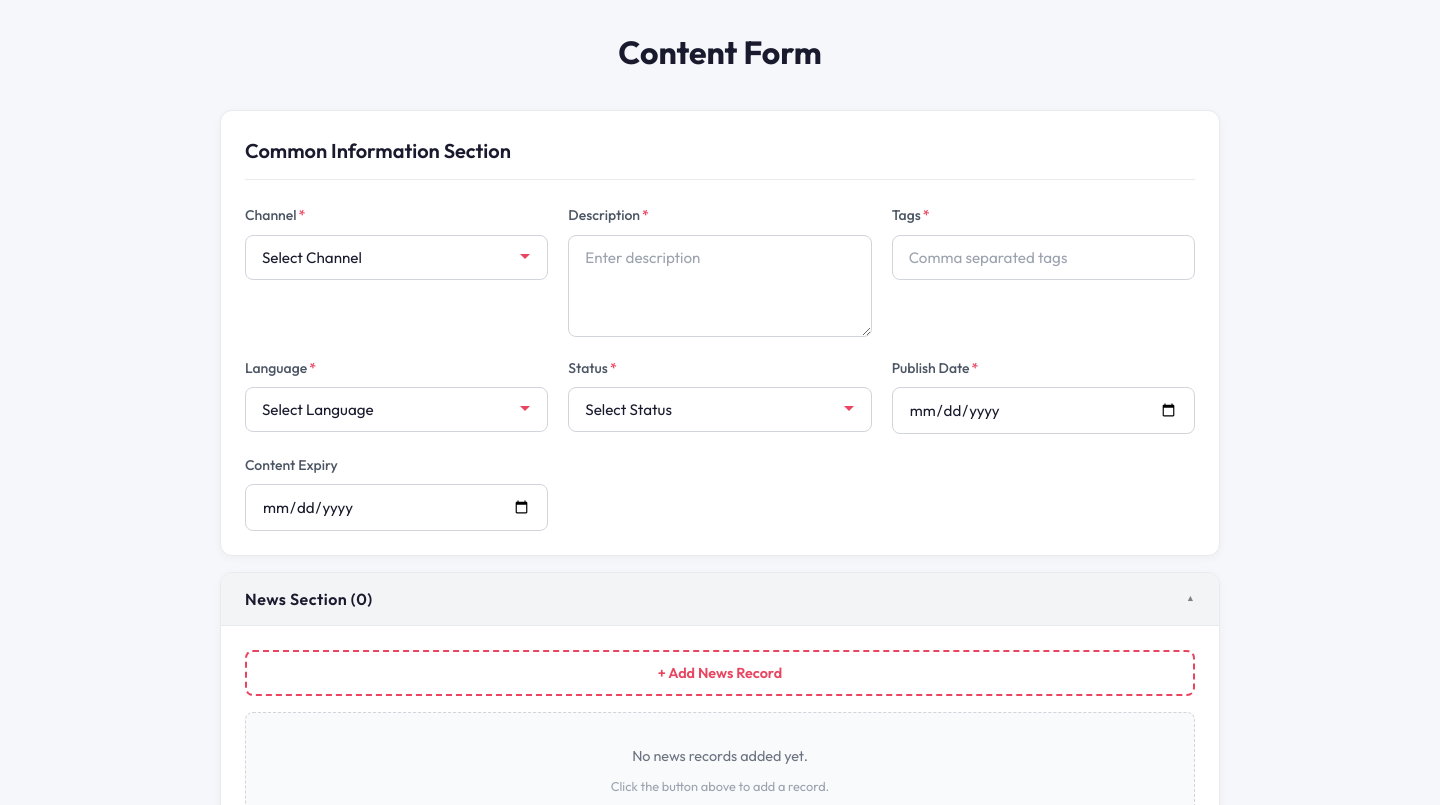
Scenario: FormPage › shows error message when API returns 400
This screenshot has width=1440, height=805.
Select "Janam Global" in the dropdown labelled "Channel*" at x=397, y=257, box [245,235,548,280]
Type "Test description" into the text box labelled "Description*" at x=720, y=286, box [568,235,872,337]
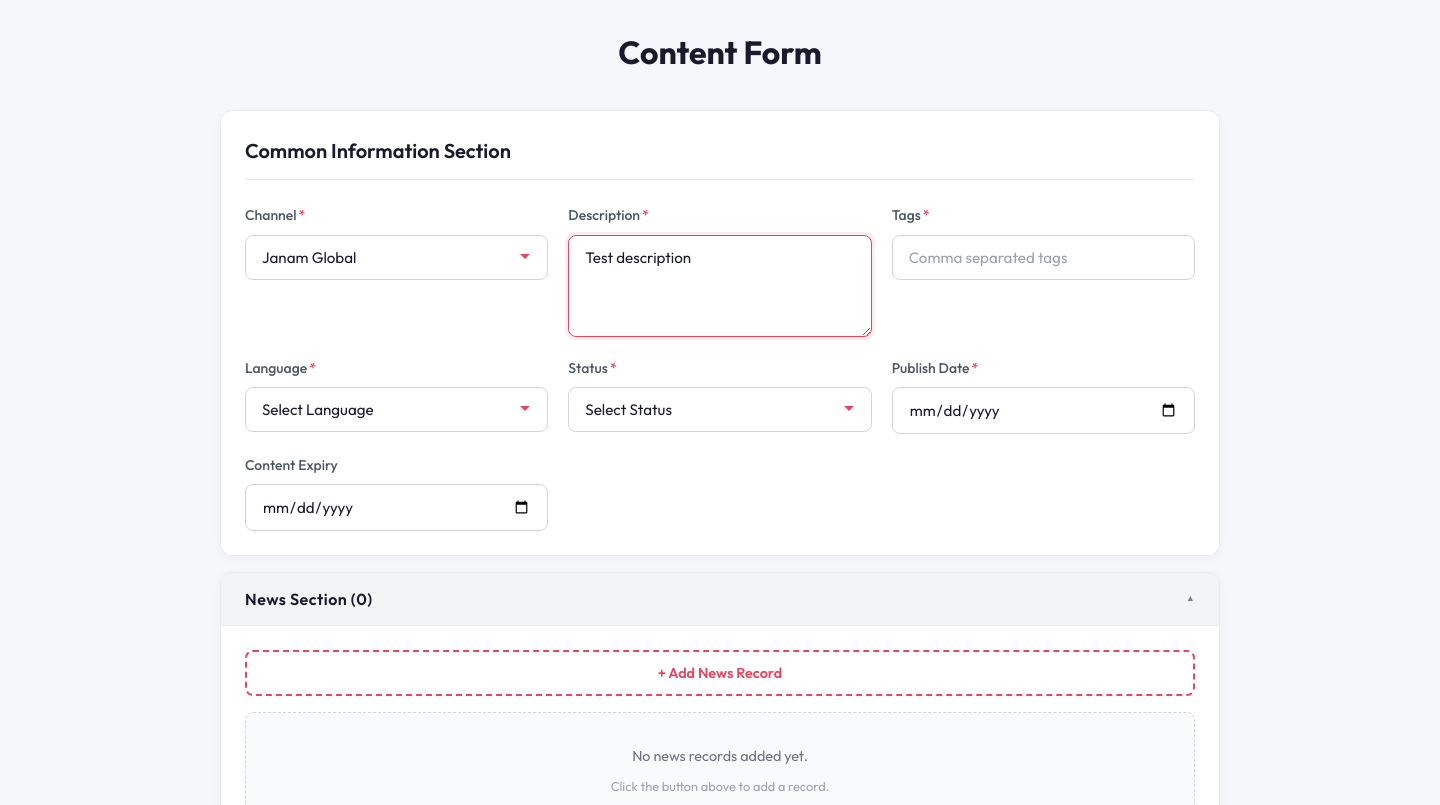
Type "tag1, tag2" into the field labelled "Tags*" at x=1043, y=257, box [892,235,1195,280]
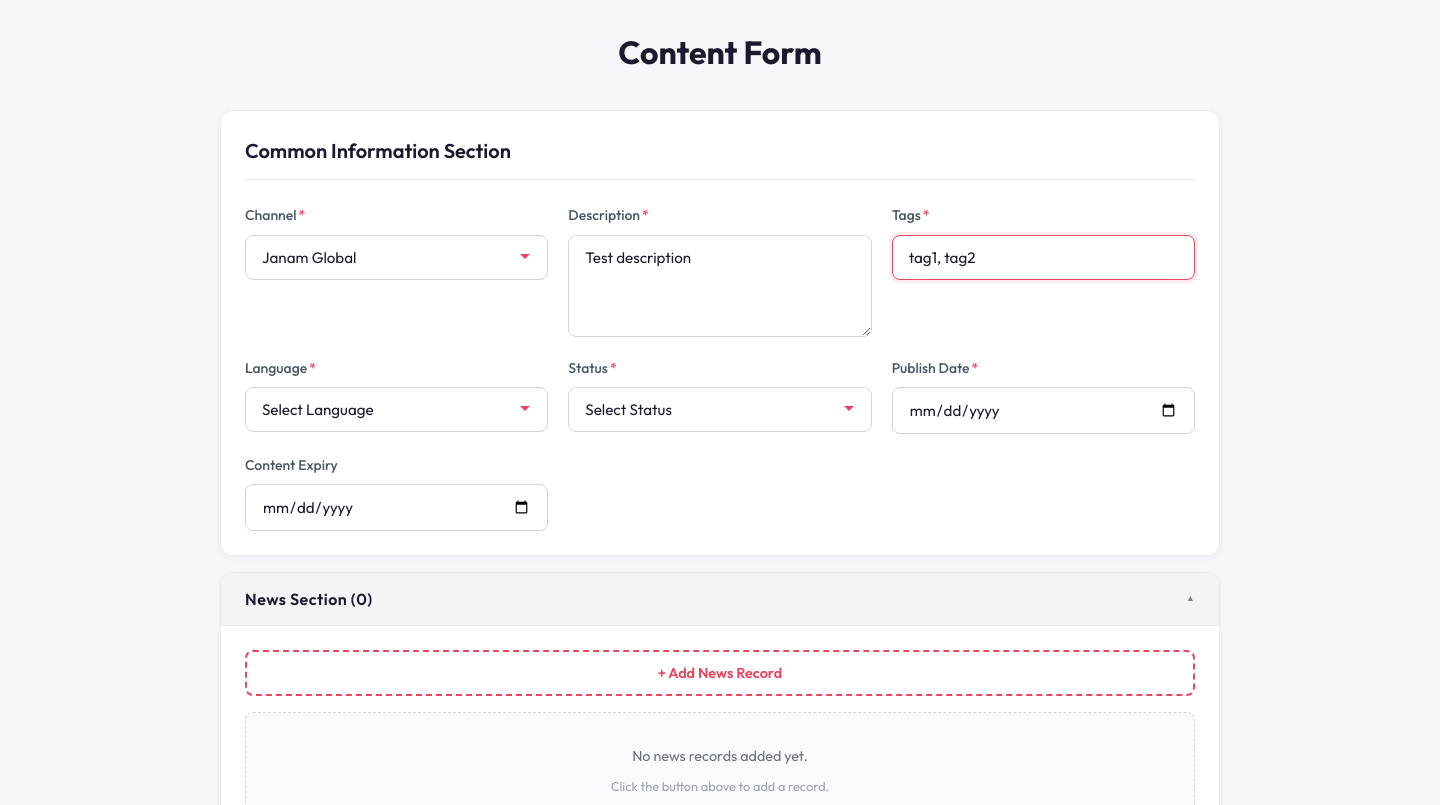
Select "Tamil" in the dropdown labelled "Language*" at x=397, y=410, box [245,387,548,432]
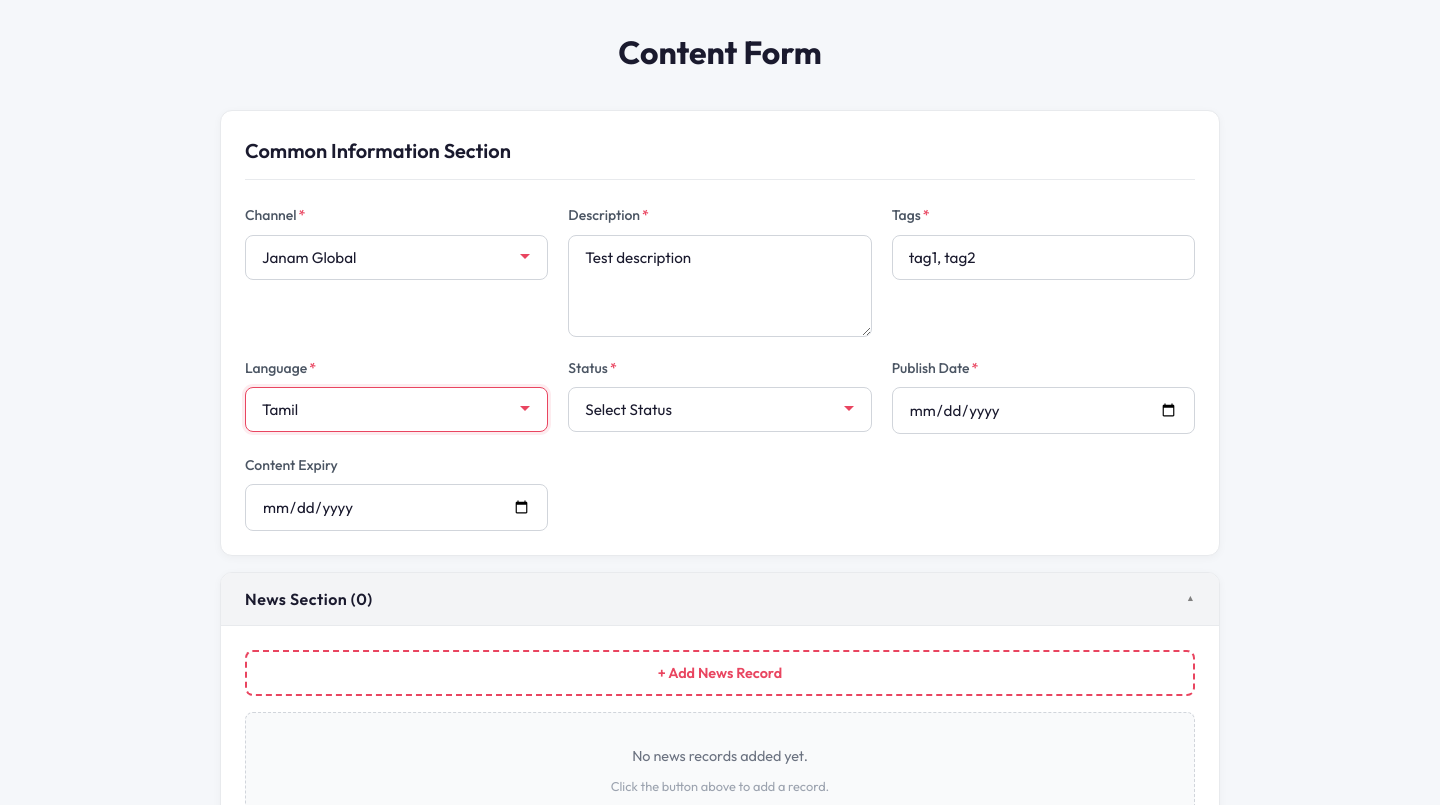
Select "Draft" in the dropdown labelled "Status*" at x=720, y=410, box [568,387,872,432]
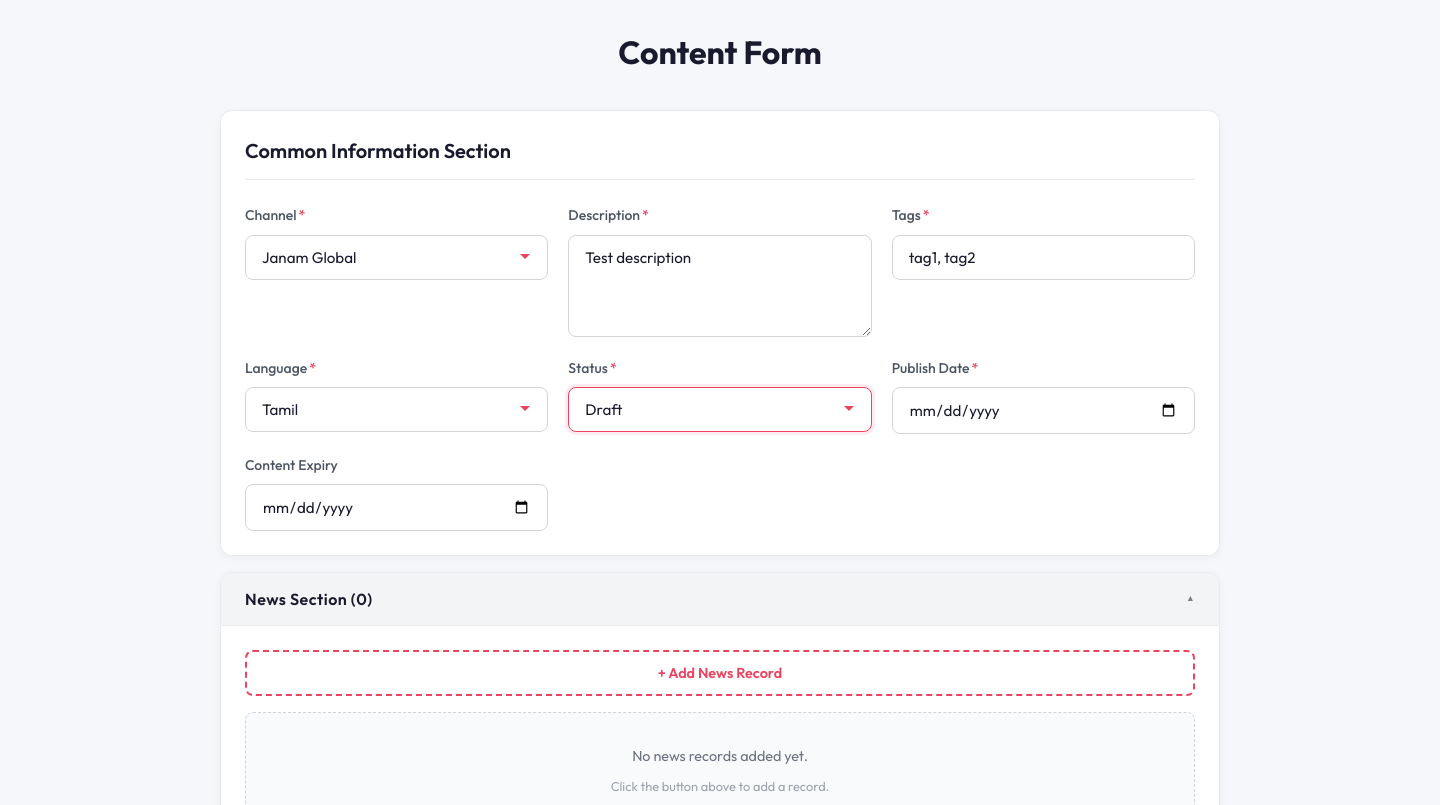
Type "2024-01-15" into the date field labelled "Publish Date*" at x=1043, y=410, box [892,387,1195,434]
(page scrolled)
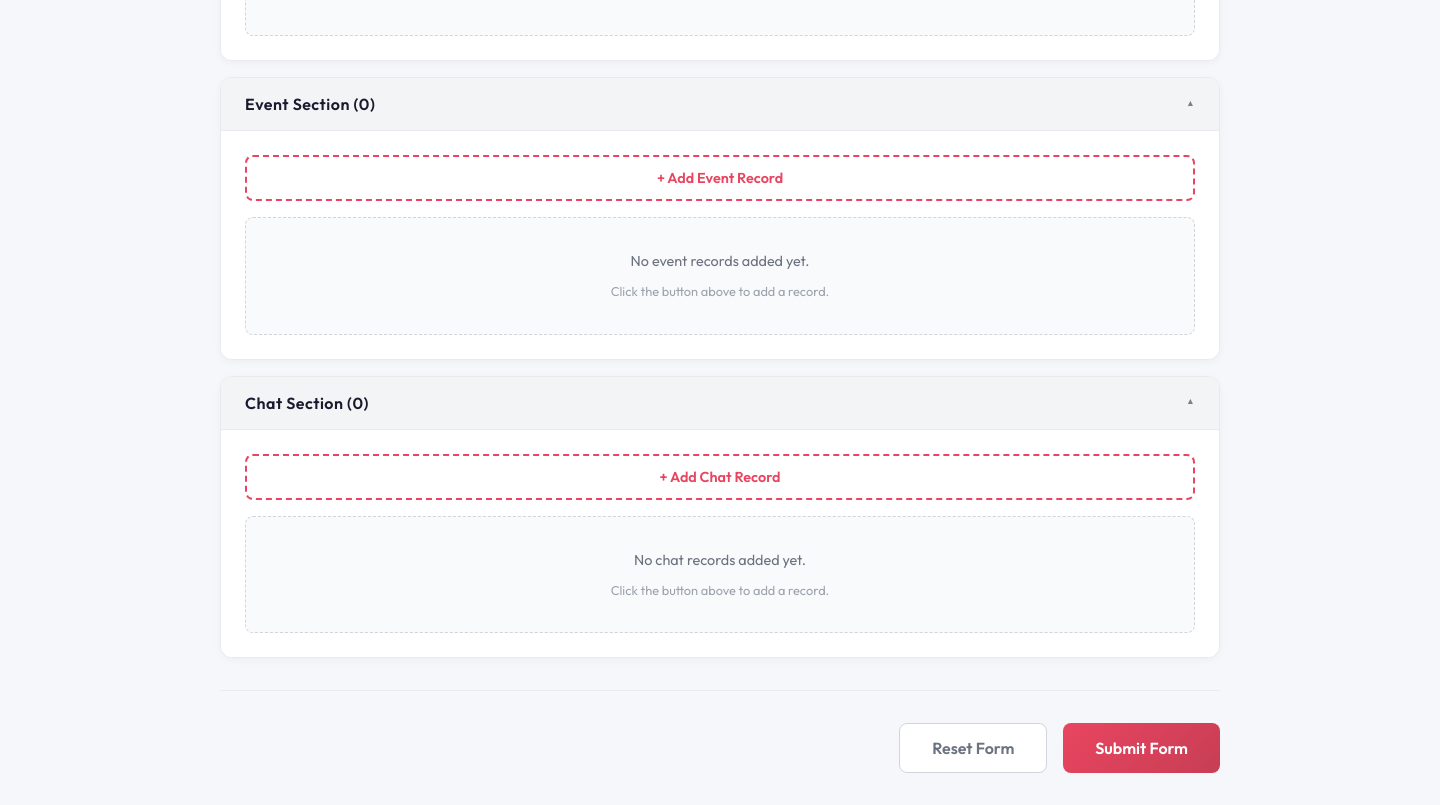
Click the button "Submit Form" at x=1142, y=748, box [1063,723,1220,773]
(page scrolled)
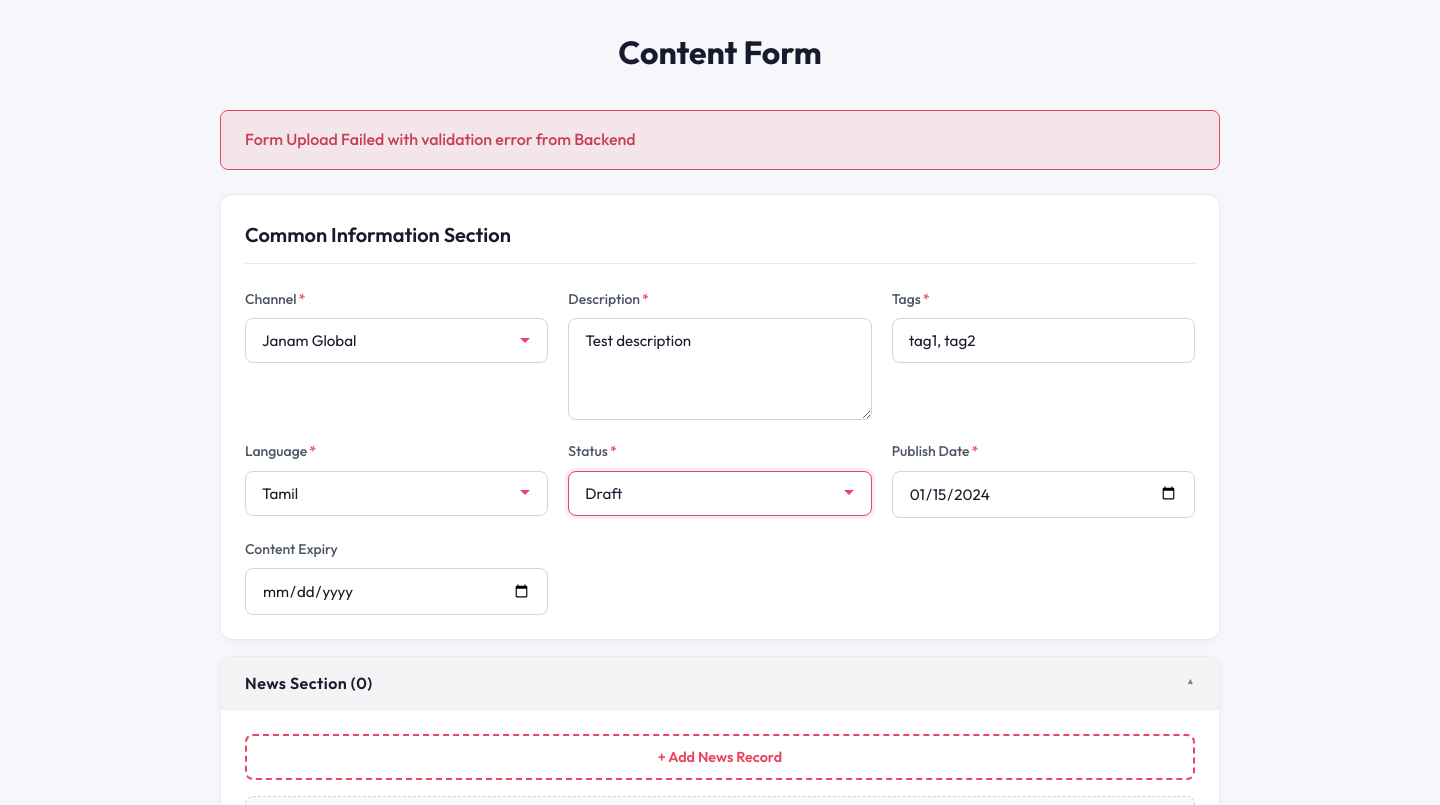
expect the text "Form Upload Failed with validation error from Backend" is shown: met, box [220,110,1220,170]
